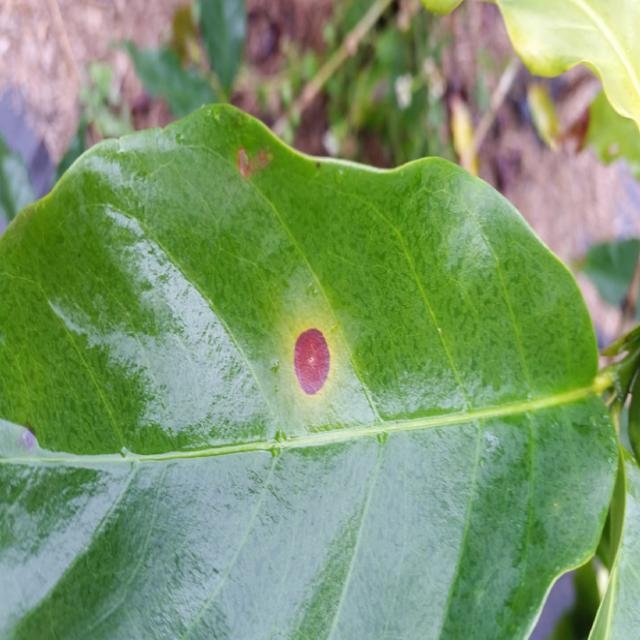Enfermedad-Mancha-de-hierro: (0, 102, 627, 640)
